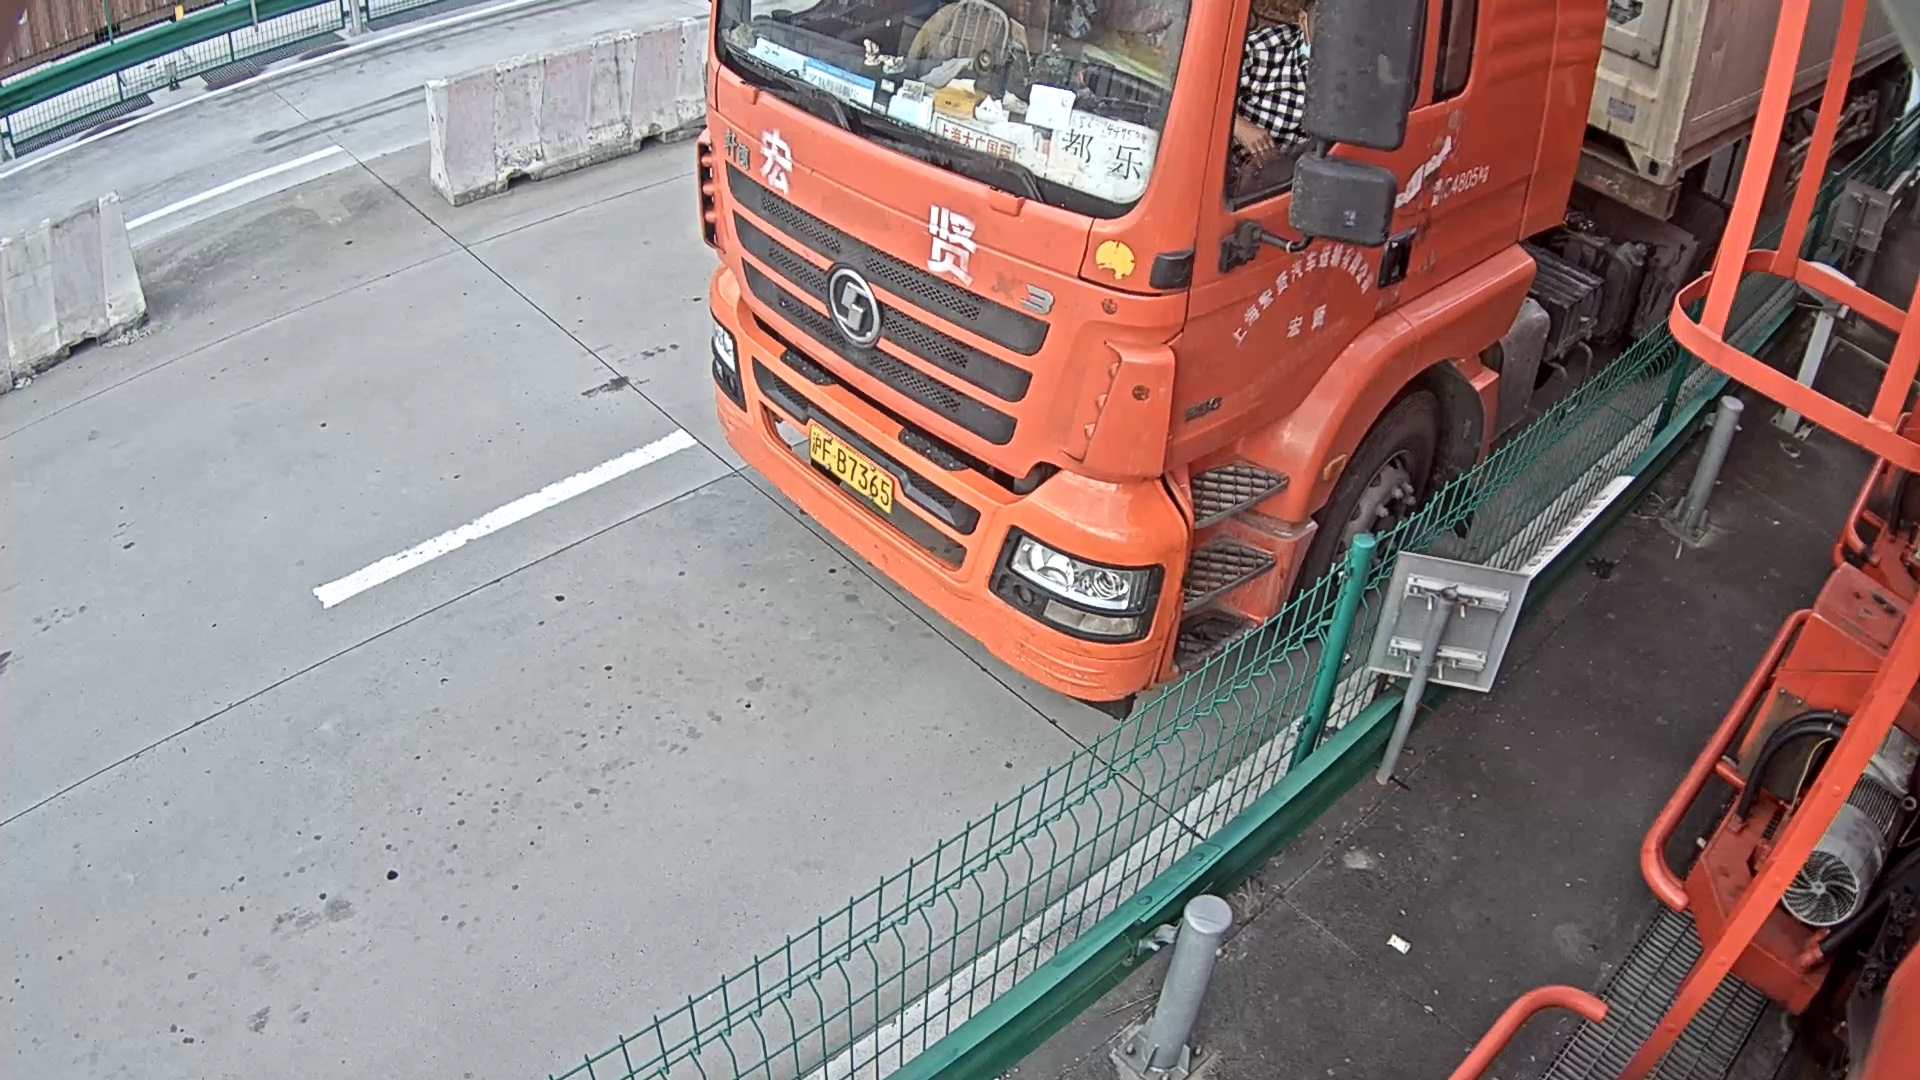head: (704, 1, 1611, 697)
plate: (804, 419, 893, 509)
